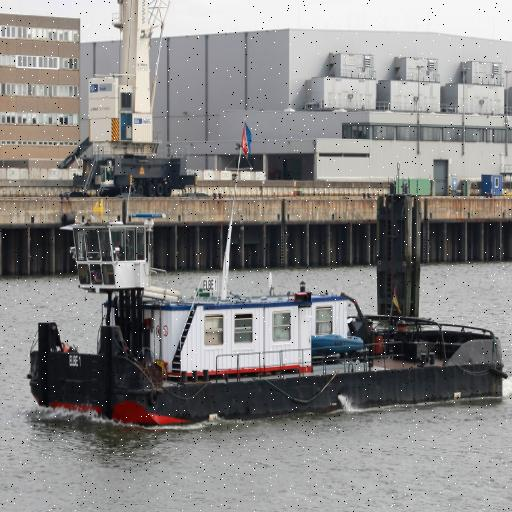tugboat: (25, 114, 511, 435)
